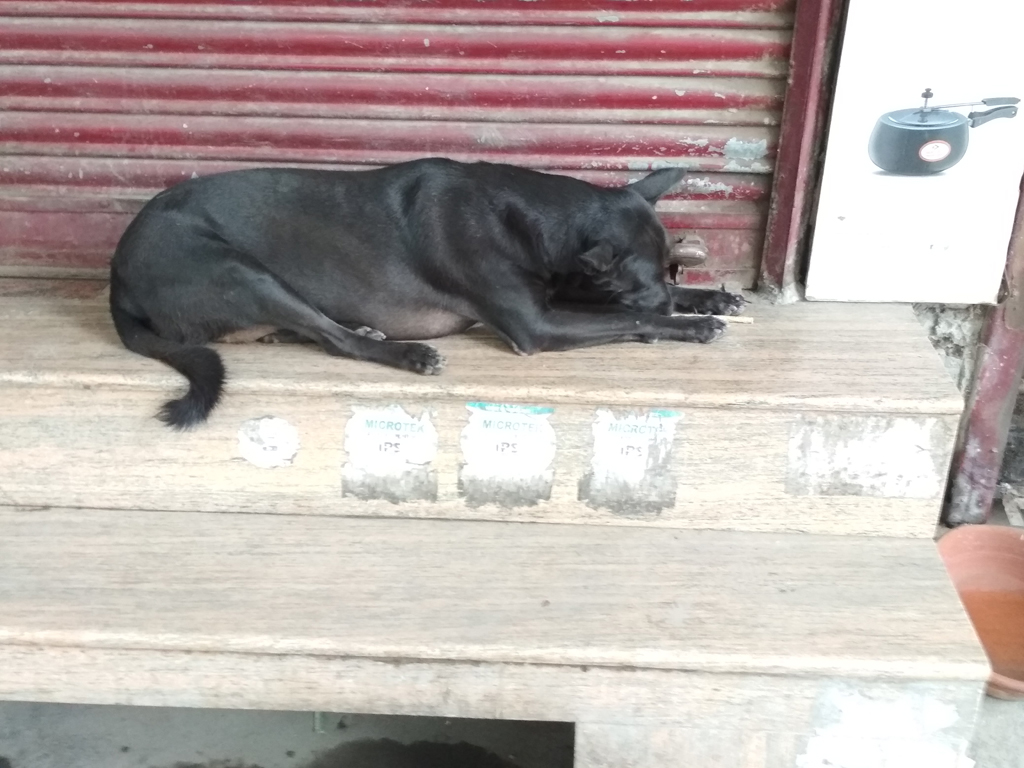dog: (109, 154, 748, 429)
